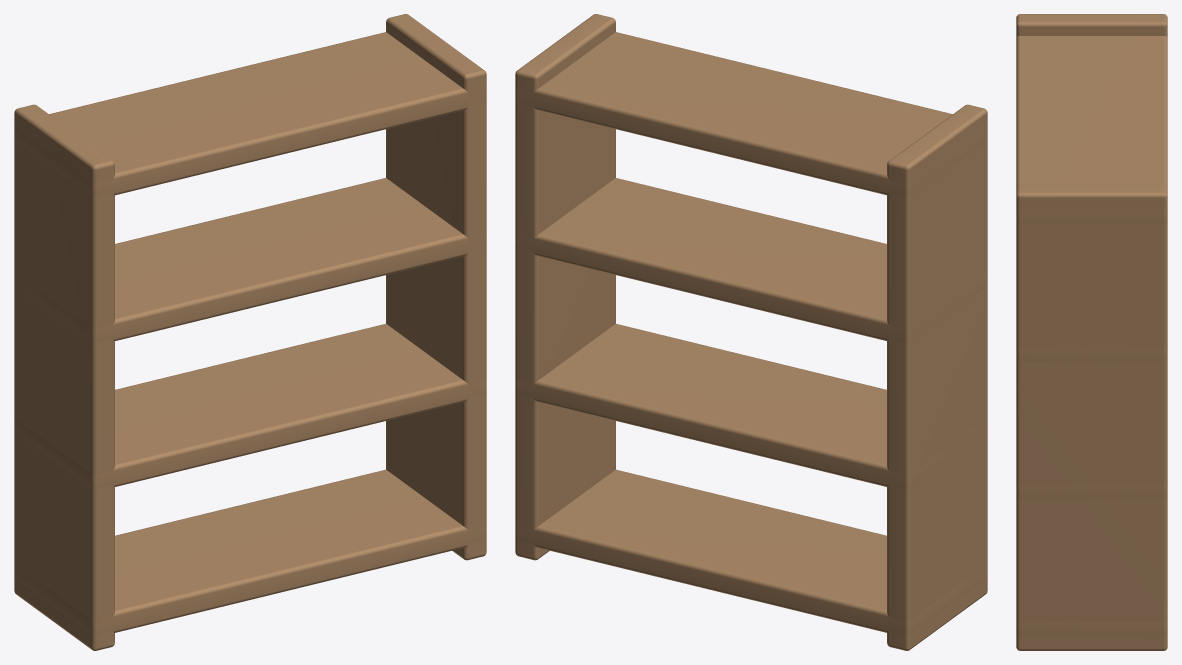
Rendered from atelier-children-s-bookshelf.glb.
The picture shows the model from 3 angles, left to right: view 1: azimuth 30°, elevation 25°; view 2: azimuth 150°, elevation 25°; view 3: azimuth 270°, elevation 25°; orthographic projection. The views are drawn at different scales.
Parts seen in each view (by area): view 1: legs.188; view 2: legs.188; view 3: legs.188.
Part boxes in pixels (left/top/right/bottom): legs.188: left=14, top=14, right=486, bottom=650; legs.188: left=515, top=14, right=987, bottom=650; legs.188: left=1016, top=14, right=1167, bottom=650.
Bounding box in the file's own units: 0.85 × 1 × 0.3.
